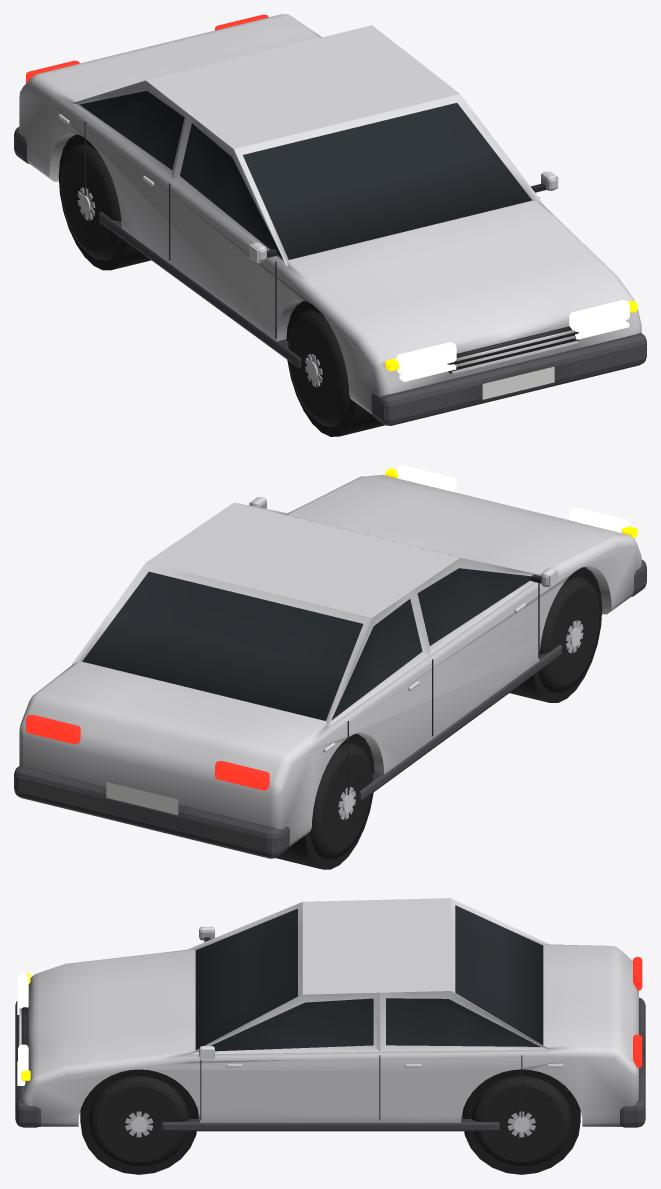
File: car_sedan.glb
The picture shows the model from 3 angles, top to bottom: view 1: azimuth 30°, elevation 25°; view 2: azimuth 150°, elevation 25°; view 3: azimuth 270°, elevation 25°; orthographic projection. The views are drawn at different scales.
Parts seen in each view (by area): view 1: body, w_FL, w_RL; view 2: body, w_RL, w_FL; view 3: body, w_FR, w_RR.
Part boxes in pixels (<box>): body: <box>14,14,646,436</box>; w_FL: <box>288,310,350,427</box>; w_RL: <box>60,144,121,260</box>; body: <box>14,465,646,869</box>; w_RL: <box>310,743,372,859</box>; w_FL: <box>539,576,600,693</box>; body: <box>15,898,645,1174</box>; w_FR: <box>89,1076,189,1167</box>; w_RR: <box>471,1076,571,1167</box>.
Size of the model in its own units: 2.18 by 1.48 by 4.72.
